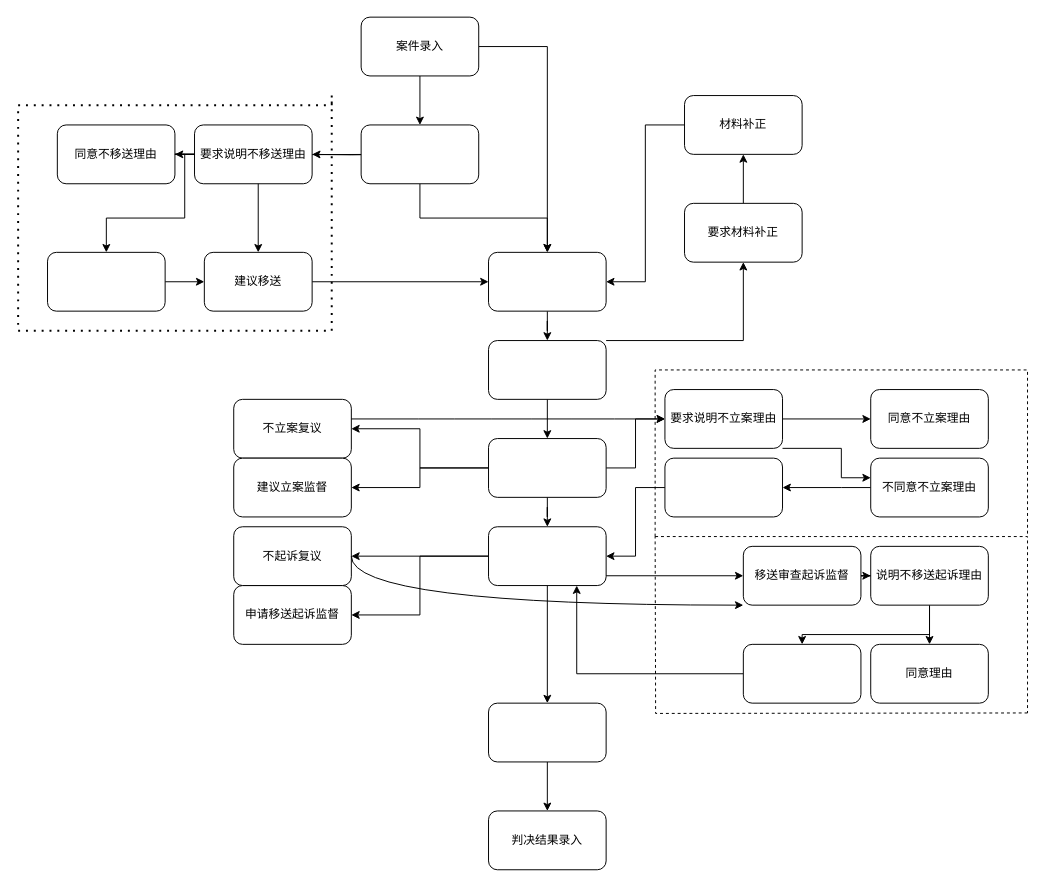
Some shapes in this 1046 by 887 pixel diagram are drawn without their labels. The box of each missing label's shape, as (x1, y1, x2, y2) in pixels:
不同意理由: (742, 643, 861, 703)
不同意移送理由: (47, 251, 165, 311)
公安受理: (488, 340, 606, 399)
公安立案: (488, 438, 606, 497)
提起公诉: (488, 702, 606, 762)
案件移送: (488, 251, 606, 311)
移送审查起诉: (488, 526, 606, 586)
行政处罚: (360, 124, 479, 184)
通知移送: (664, 457, 783, 517)
